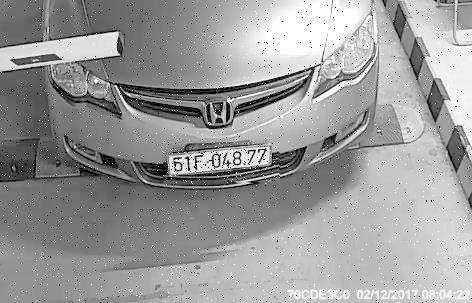License-plate: (165, 144, 282, 185)
